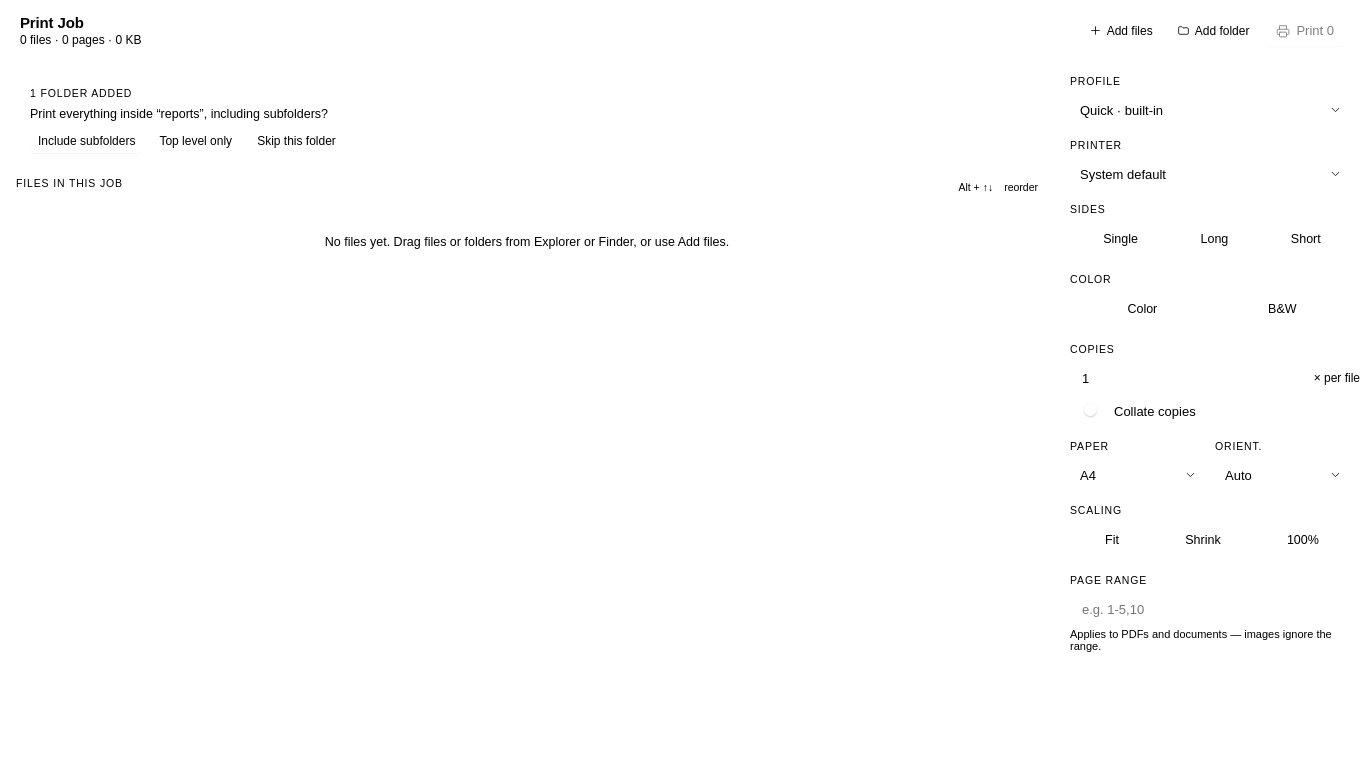
PrintJobScreen › FR-004: asks before recursing into a dropped folder
The image size is (1366, 768).
expect the text "Print everything inside “reports”, including subfolders?" is shown: met, box [30,107,328,121]
expect the text "1 folder added" is shown: met, box [30,87,132,99]
Click the button "Include subfolders": (87, 141) [30,129,143,153]
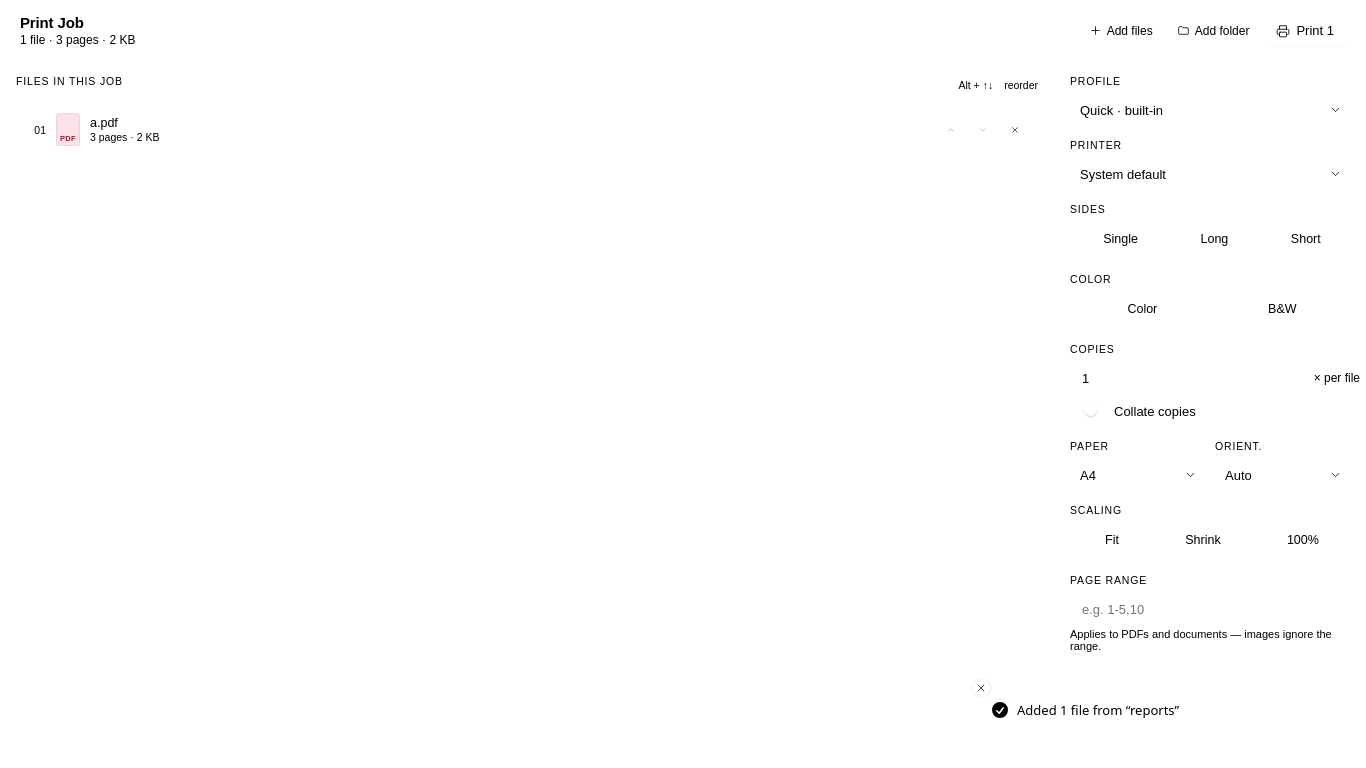
expect the text "a.pdf" is shown: met, box [90,116,118,130]
expect the button "Include subfolders" is gone: met
